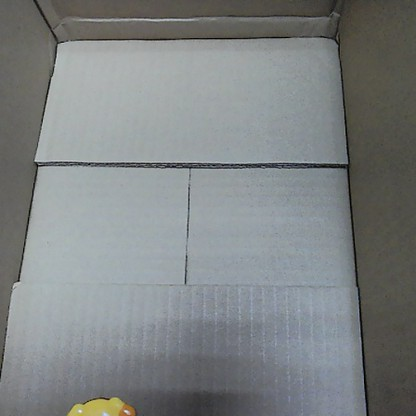dogclip: (62, 394, 140, 414)
